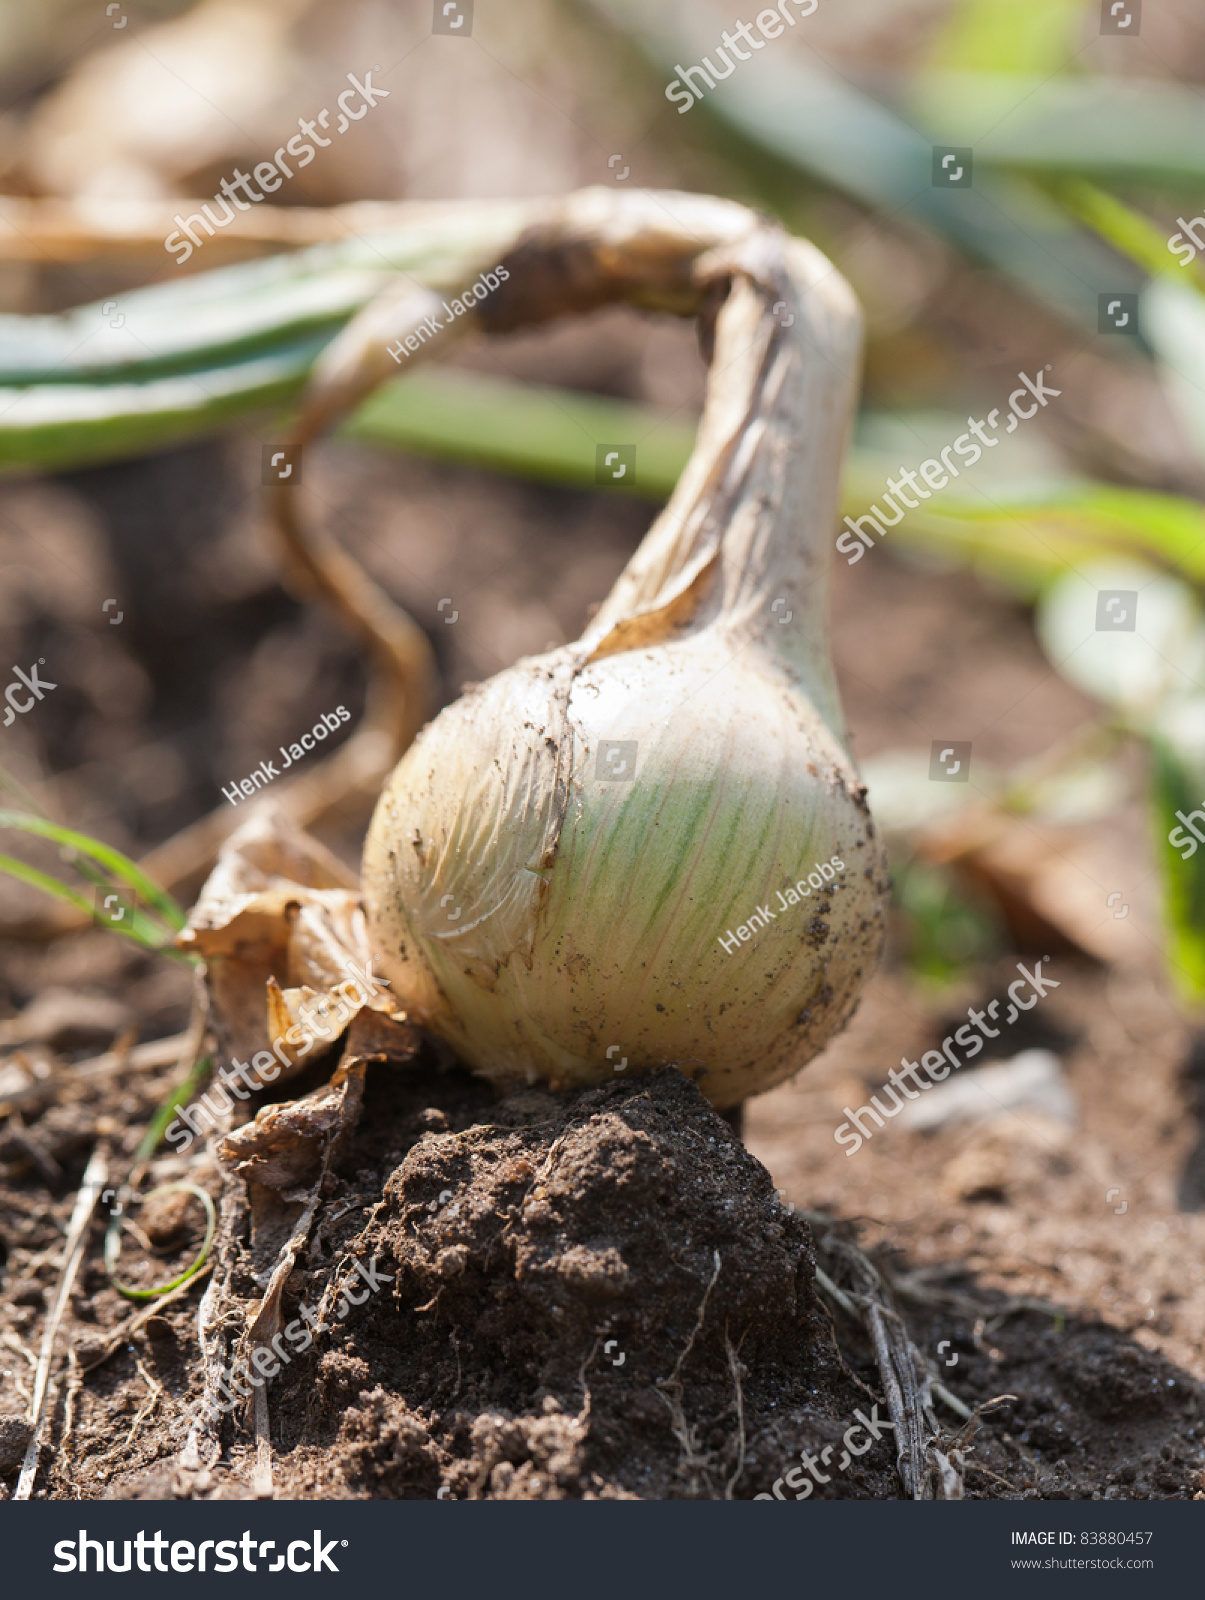onion rotten: (89, 110, 972, 1159)
